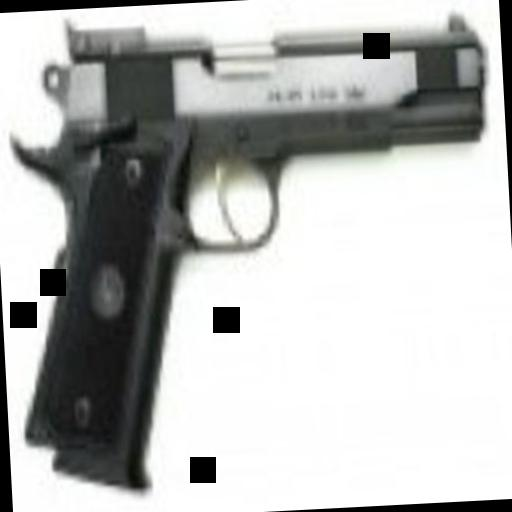Handgun: (2, 0, 506, 488)
